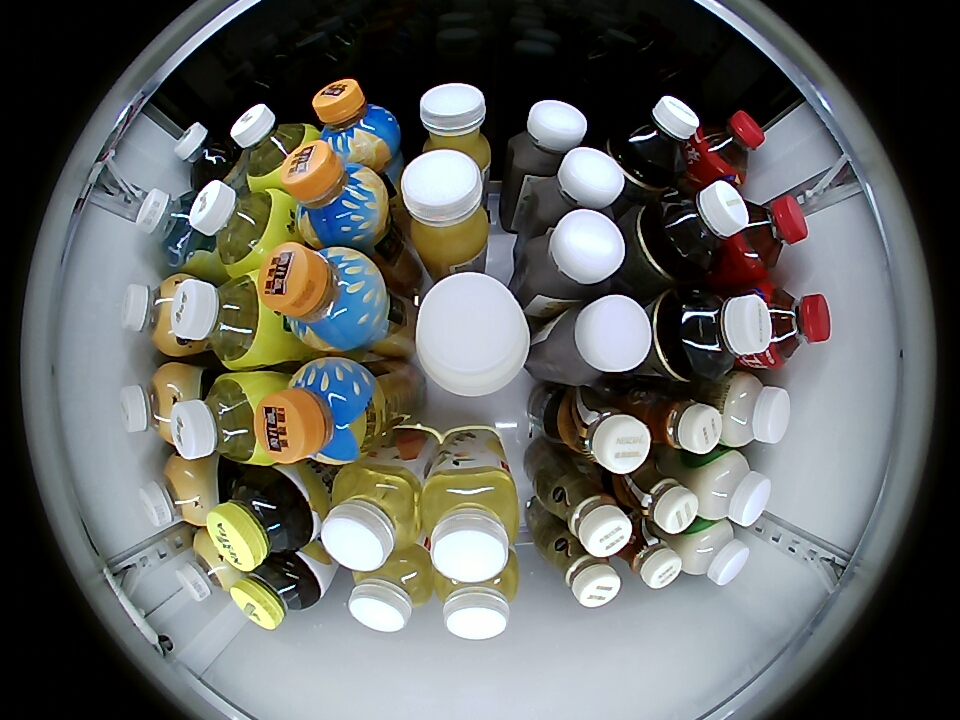asamu: (119, 364, 189, 443), (121, 274, 189, 355), (138, 456, 210, 529), (177, 531, 242, 602)
binghongcha: (758, 284, 832, 367), (733, 195, 808, 276), (692, 110, 765, 183)
bingtangxueli: (170, 274, 273, 369), (188, 180, 289, 273), (171, 371, 271, 464), (231, 103, 315, 187)
chacui: (205, 466, 316, 570), (231, 552, 324, 630)
chapai2: (421, 465, 520, 583), (321, 464, 422, 571), (347, 547, 434, 632), (434, 556, 520, 640)
damaicha: (174, 122, 244, 186)
guolicheng: (260, 244, 385, 351), (256, 358, 379, 465), (283, 141, 389, 246), (313, 79, 401, 169)
kafei: (549, 386, 651, 474), (541, 465, 632, 557), (617, 455, 699, 533), (630, 387, 722, 454), (541, 532, 621, 608), (616, 518, 682, 588)
nfc: (398, 150, 492, 262), (415, 83, 492, 175)
qinningshui: (135, 187, 208, 268)
wulongcha: (675, 285, 774, 377), (658, 180, 748, 270), (619, 95, 700, 175)
yingyangkuaixian: (413, 272, 531, 397)
yousuanru: (710, 371, 791, 448), (690, 449, 771, 526), (677, 518, 749, 585)
youyanggudong: (521, 208, 627, 304), (546, 294, 654, 382), (527, 146, 626, 226), (506, 100, 589, 175)
